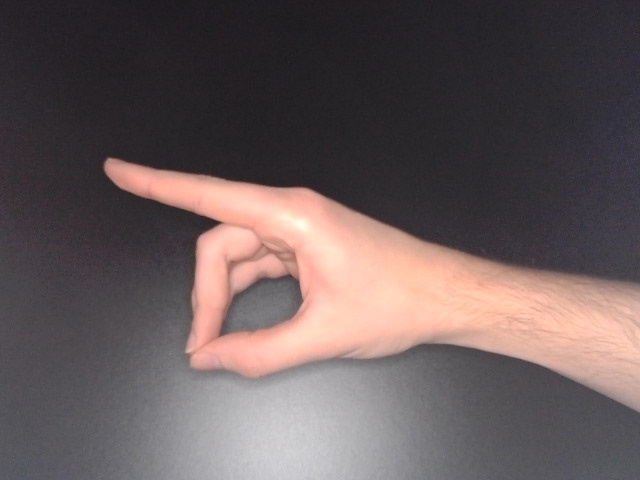p: (101, 154, 480, 385)
